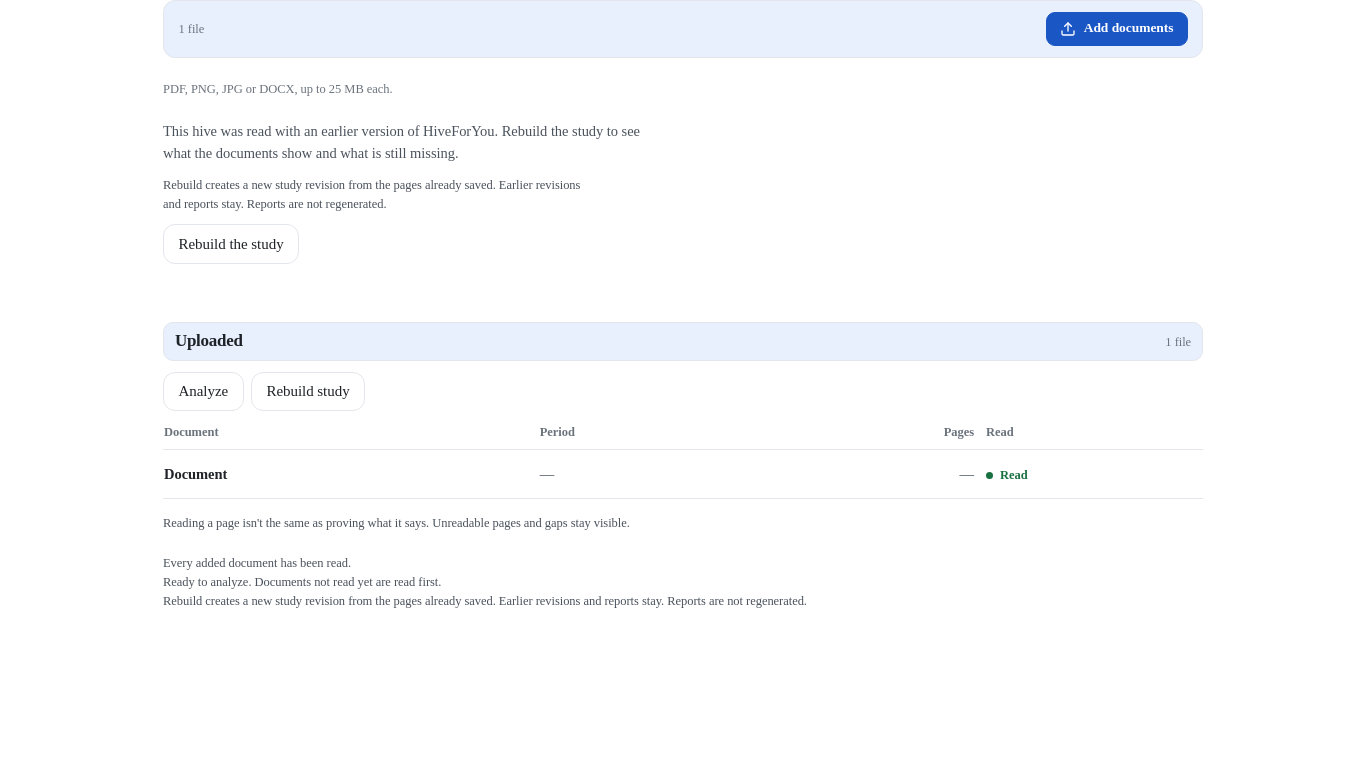
Test case: DocumentsPanel — Analyze › shows an API failure and support reference without opening the progress dialog
Click the button with test id "documents-legacy-rebuild": (231, 244) [163,224,299,264]
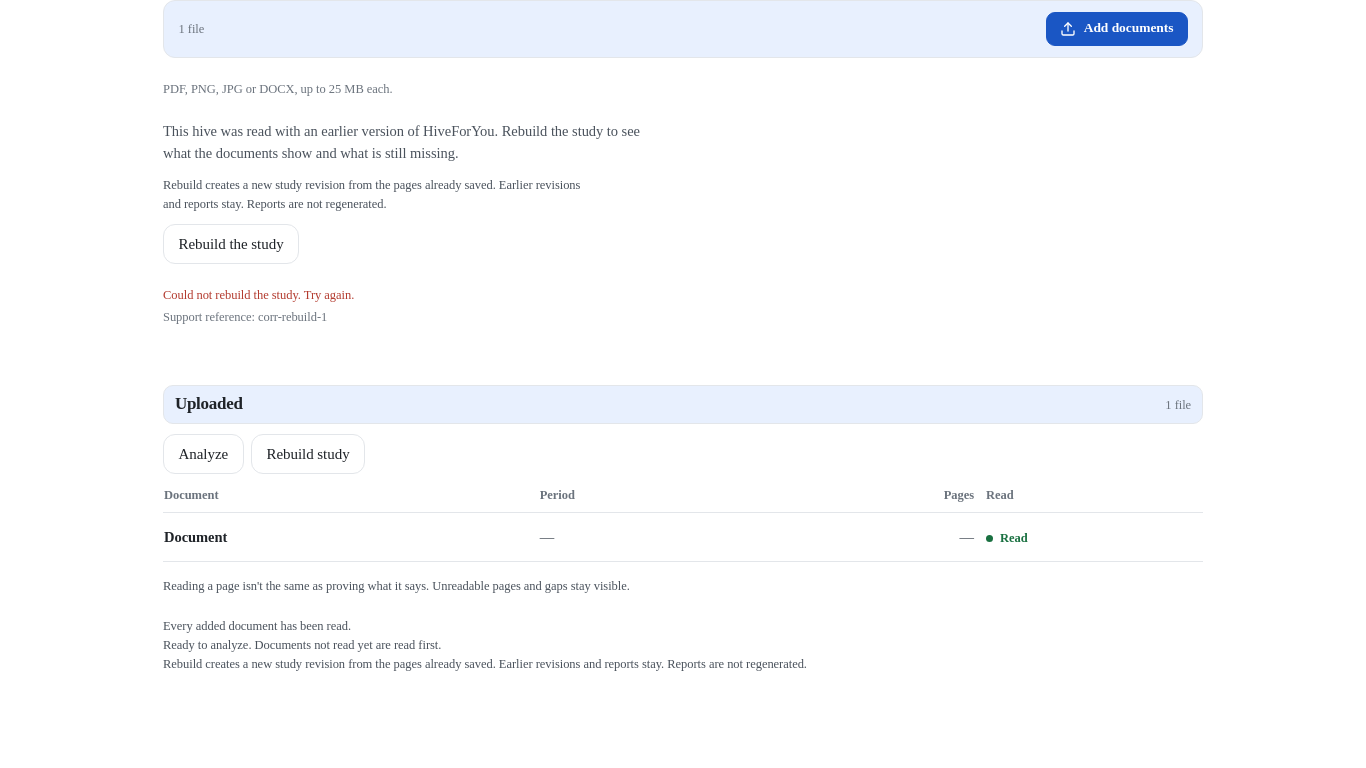
Expected: the message with test id "rebuild-start-error" shows "Could not rebuild the study. Try again.", [163,288,354,302]
Expected: the message with test id "rebuild-start-error" shows "Support reference: corr-rebuild-1", [163,288,354,324]
